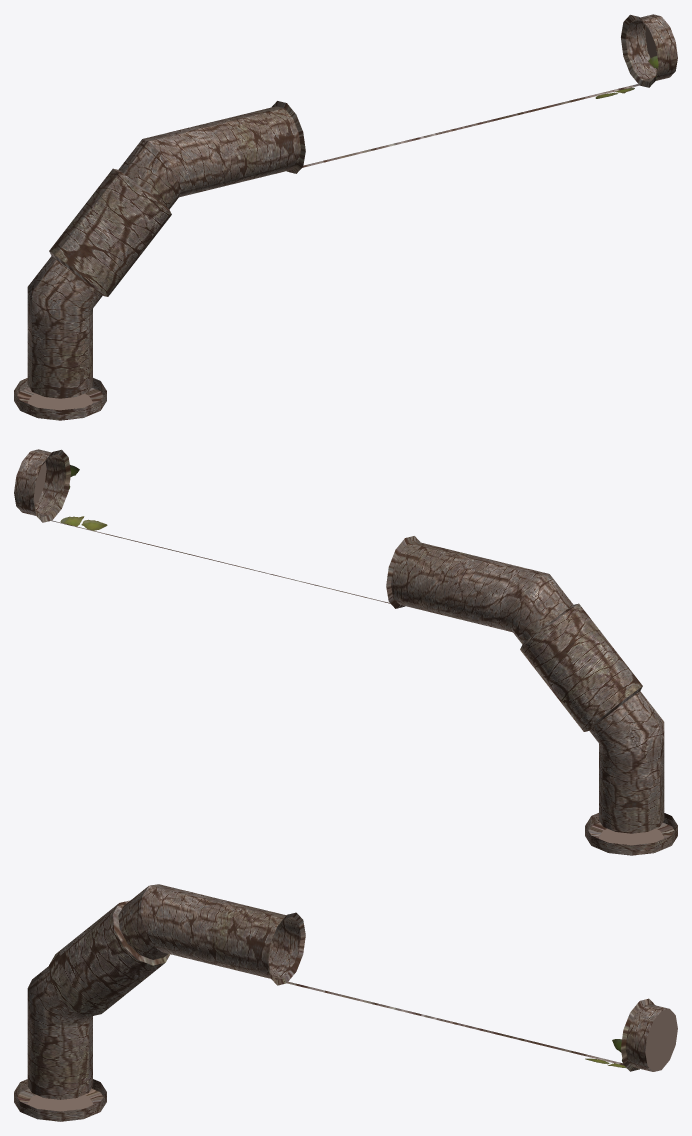
3 views of the same model, one above another, from view 1: azimuth 30°, elevation 25°; view 2: azimuth 150°, elevation 25°; view 3: azimuth 330°, elevation 25° (orthographic).
Parts seen in each view (by area): view 1: 4; view 2: 4; view 3: 4.
Boxes of the visible parts, <box> form: 4: <box>14,14,677,420</box>; 4: <box>14,449,677,855</box>; 4: <box>14,884,677,1121</box>.
Bounding box in the file's own units: 6.4 × 0.8027 × 2.33.
